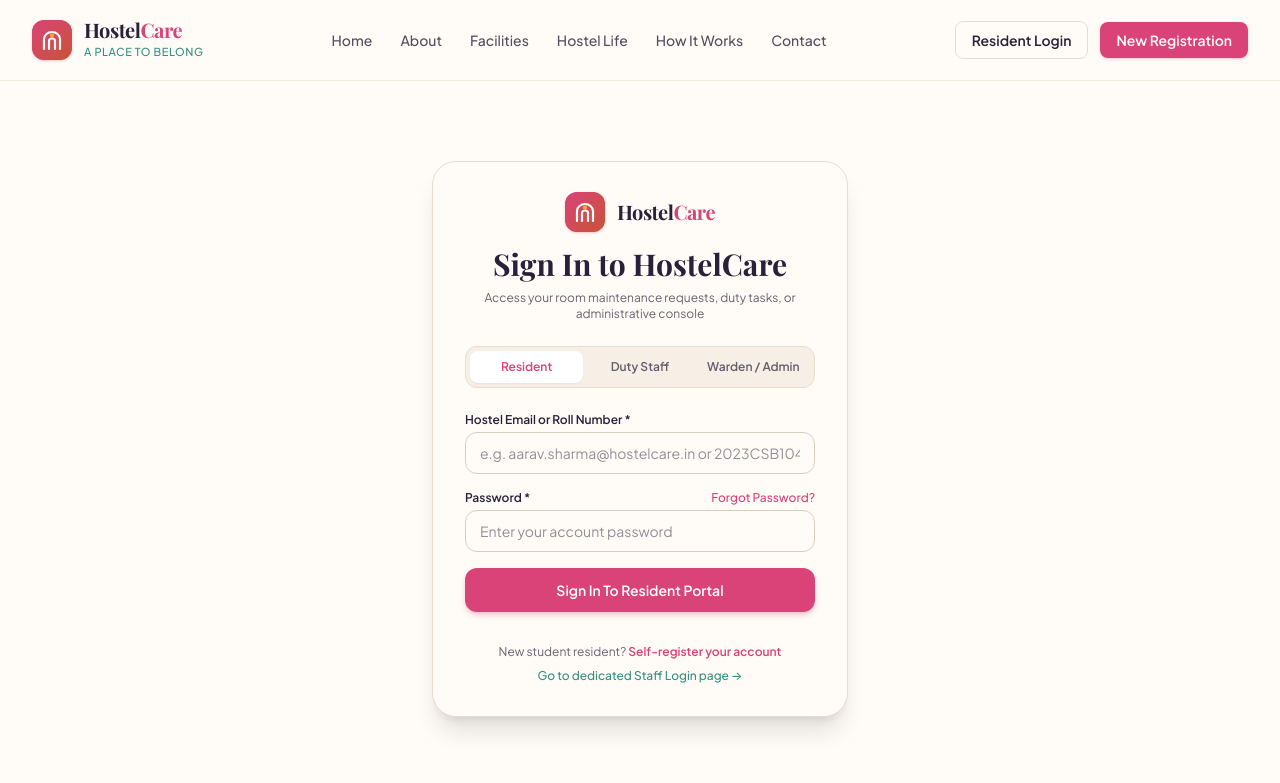
Test: HostelCare Multi-Page Application & Phase 3C Authentication › renders login route and handles student sign in via backend API
Expected: the heading "Sign In to HostelCare" is shown, [493, 244, 787, 284]
Type "aarav.sharma@hostelcare.in" into the field labelled "Hostel Email or Roll Number *" at (640, 453), box [465, 432, 815, 474]
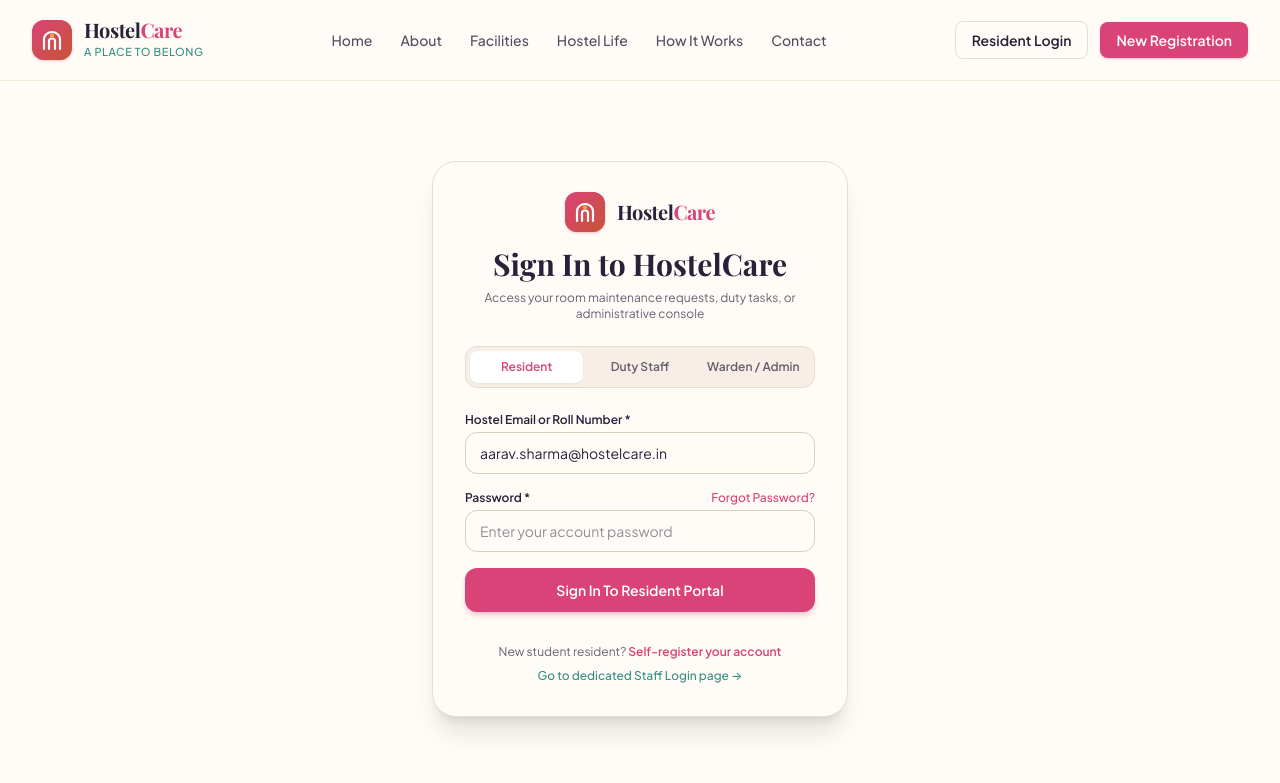
Type "StudentPass123!" into the password field labelled "Password *" at (640, 531), box [465, 510, 815, 552]
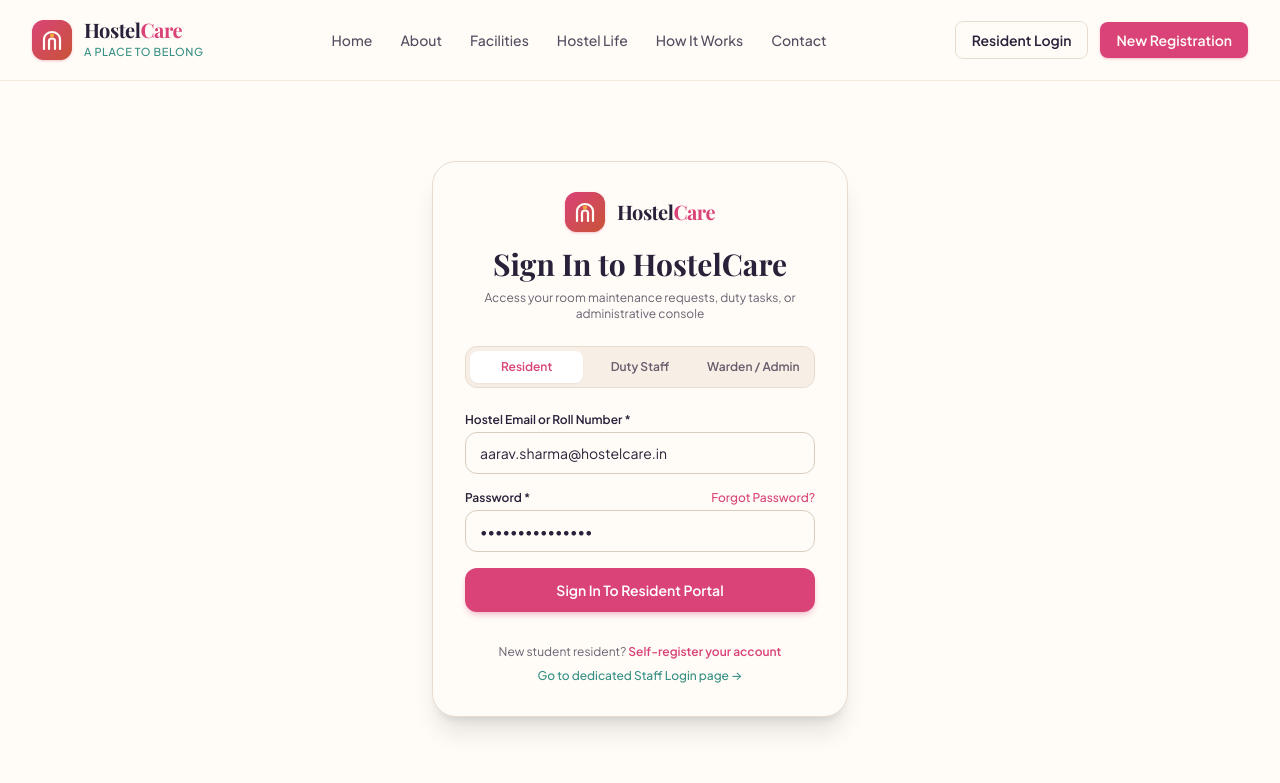
Click the button "Sign In To Resident Portal" at (640, 590), box [465, 568, 815, 612]
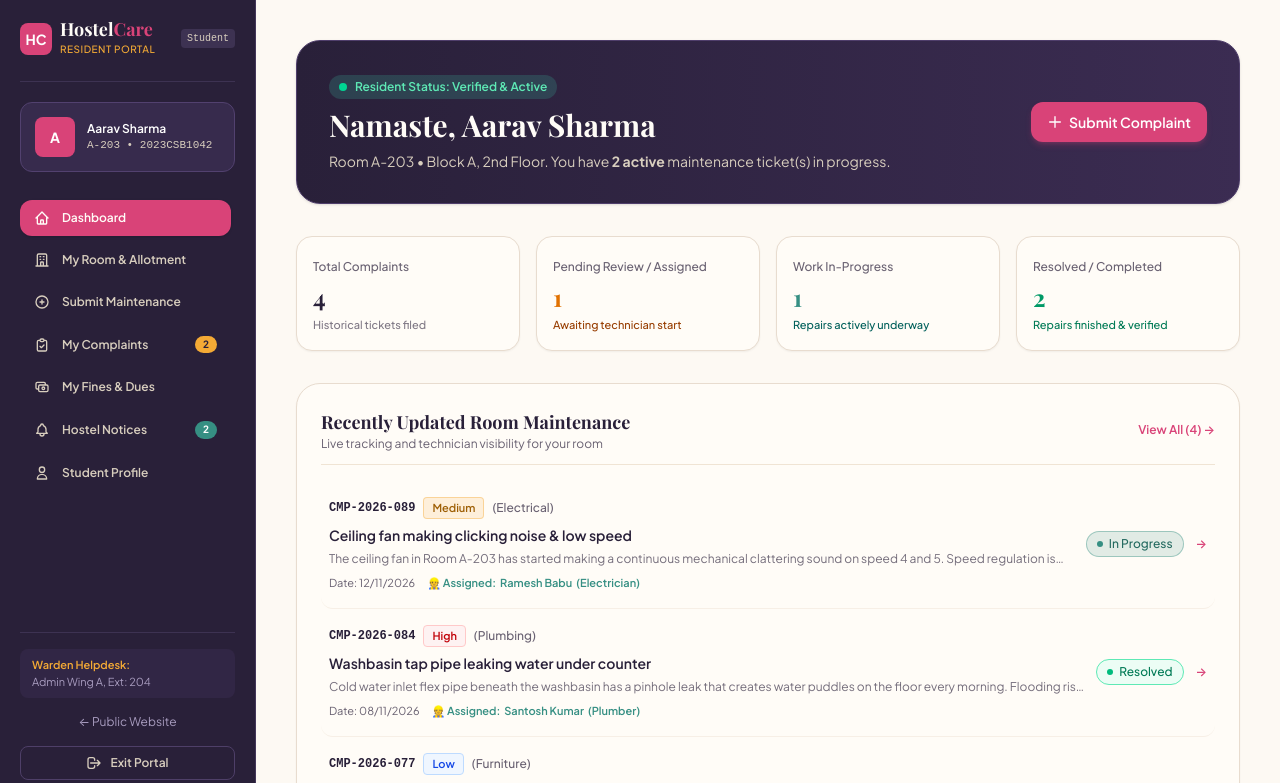
Now the heading "Namaste, Aarav Sharma" is shown, box [329, 105, 656, 145]
